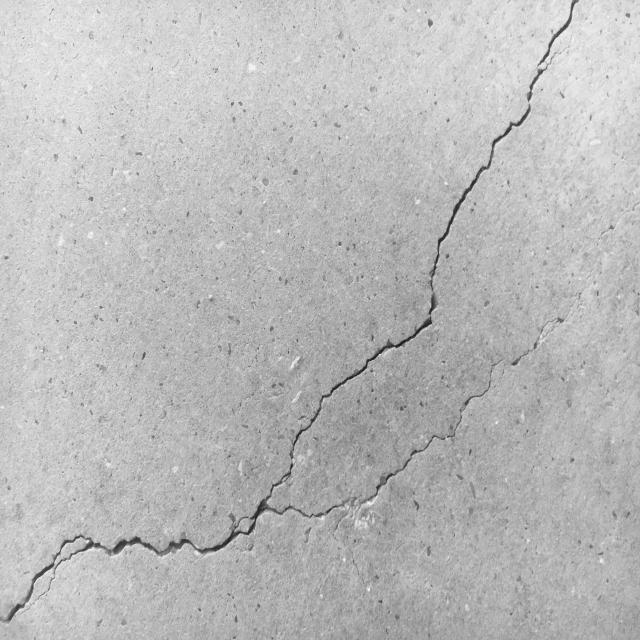SurfaceCrack: (1, 6, 634, 640)
